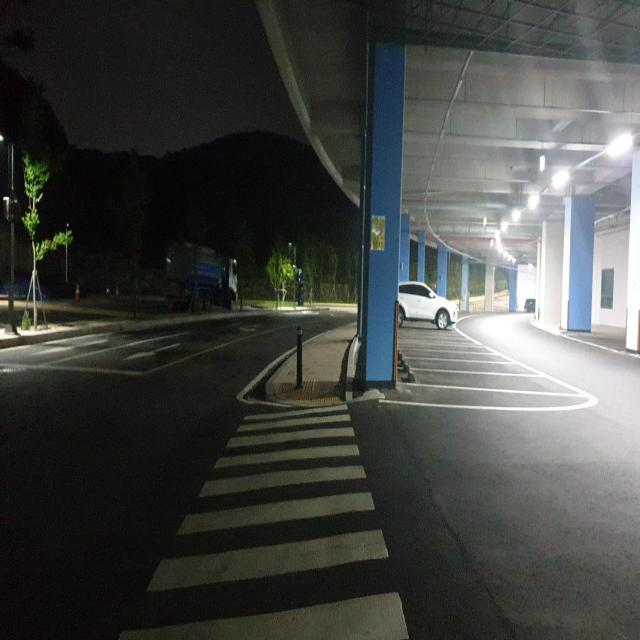횡단보도: (119, 403, 412, 640)
